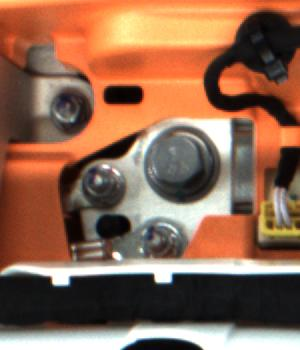nut_b: (140, 118, 223, 201)
screw_s: (78, 162, 125, 205), (137, 218, 176, 258), (48, 90, 82, 130)
